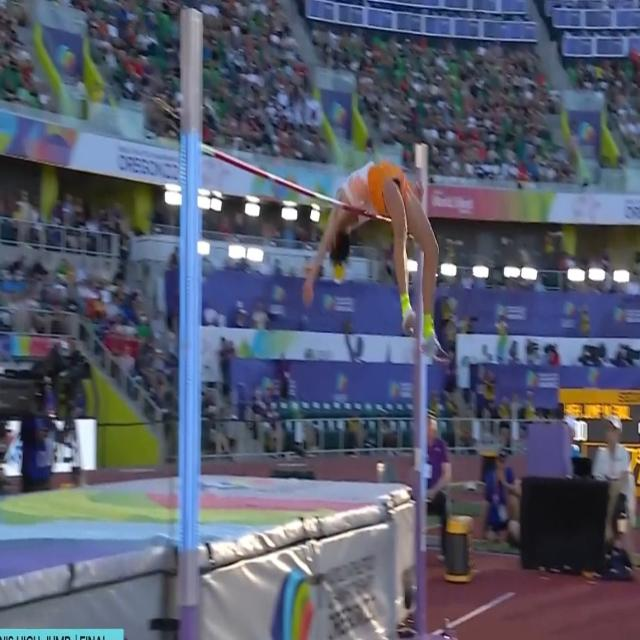jump: (301, 158, 452, 366)
